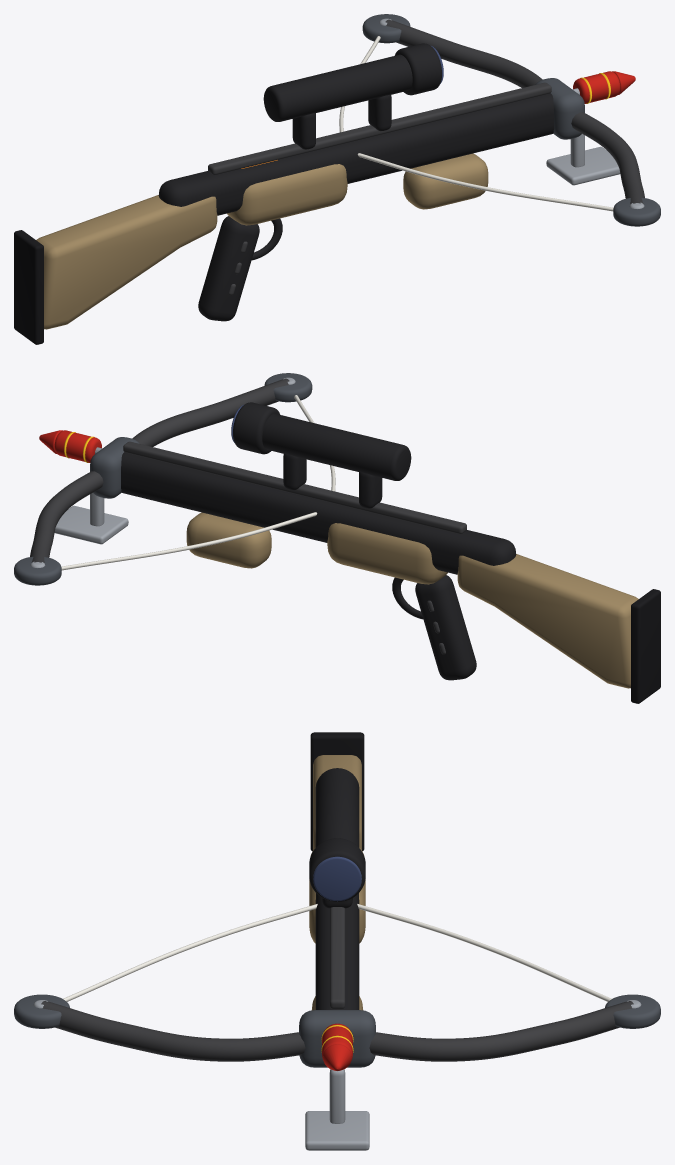
Rendered from xbow.glb.
The picture shows the model from 3 angles, top to bottom: view 1: azimuth 30°, elevation 25°; view 2: azimuth 150°, elevation 25°; view 3: azimuth 270°, elevation 25°; orthographic projection. The views are drawn at different scales.
Parts seen in each view (by area): view 1: xbow, Bolt; view 2: xbow, Bolt; view 3: xbow, Bolt.
Part boxes in pixels (x1,y1,x2,y2): xbow: (14, 14, 660, 344); Bolt: (241, 71, 635, 168); xbow: (14, 373, 660, 703); Bolt: (39, 430, 102, 462); xbow: (14, 732, 660, 1150); Bolt: (321, 1023, 353, 1070).
Size of the model in its own units: 0.648 by 0.2269 by 0.504.
